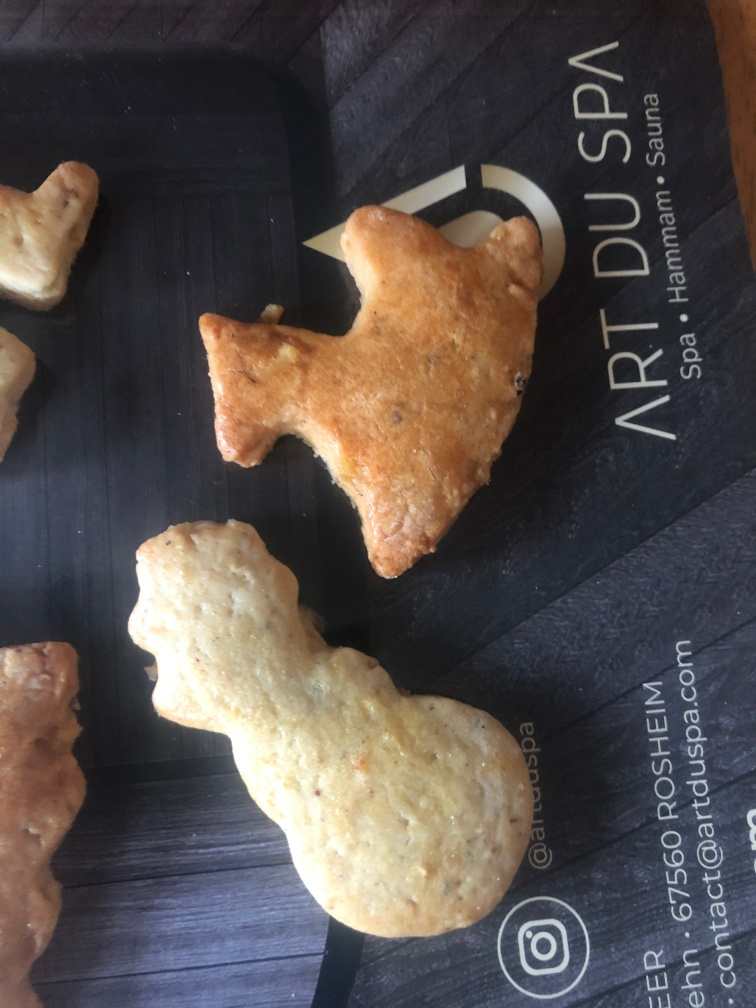lamb: (193, 196, 549, 573)
snowman: (124, 511, 538, 944)
